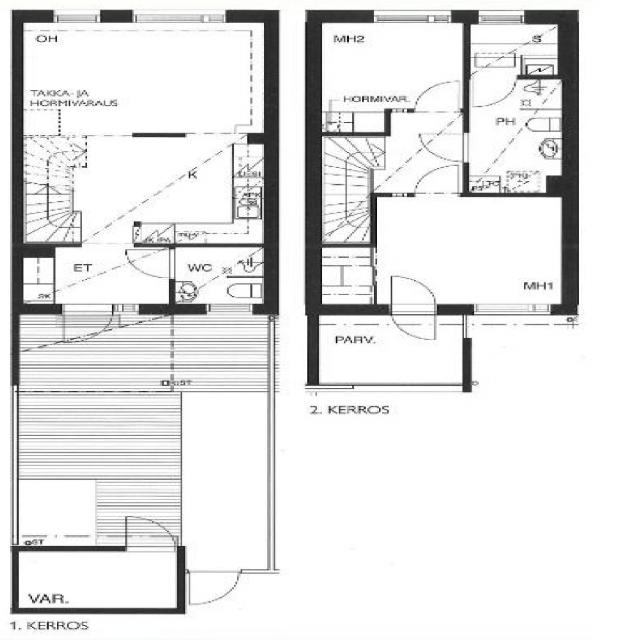door: (64, 304, 114, 346), (189, 569, 240, 605), (127, 515, 174, 551), (392, 303, 434, 342), (392, 276, 434, 315), (417, 133, 470, 163), (415, 80, 460, 113), (415, 164, 459, 196), (472, 75, 515, 106), (127, 250, 175, 277)
